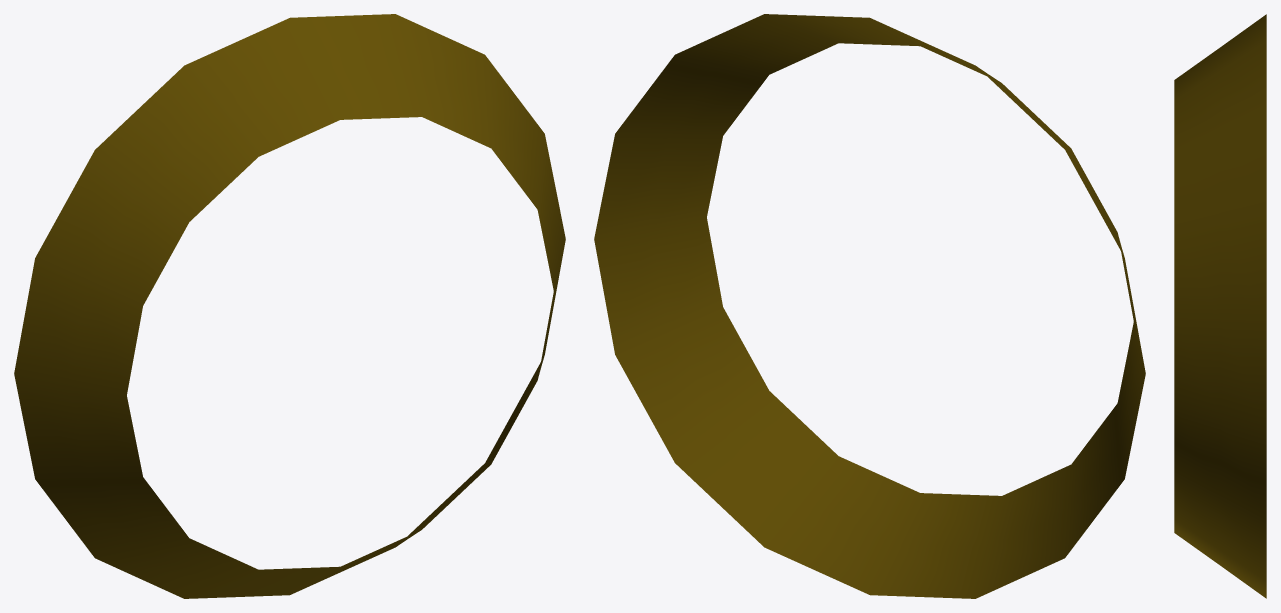
File: ringUP.fbx
3 renders of one model, left to right at view 1: azimuth 30°, elevation 25°; view 2: azimuth 150°, elevation 25°; view 3: azimuth 270°, elevation 25°, orthographic. The views are drawn at different scales.
Visible parts, largest first — view 1: ringU; view 2: ringU; view 3: ringU.
Part boxes in pixels (box(x1,y1,x2,y2)): ringU: box(14, 14, 565, 598); ringU: box(594, 14, 1145, 598); ringU: box(1174, 14, 1266, 598).
Size of the model in its own units: 199 by 199 by 31.54.
1 material, 1 textured.
